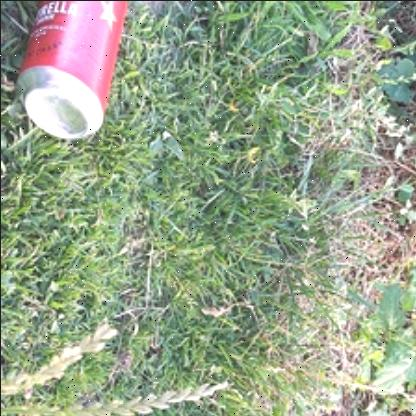Can: (14, 0, 126, 138)
